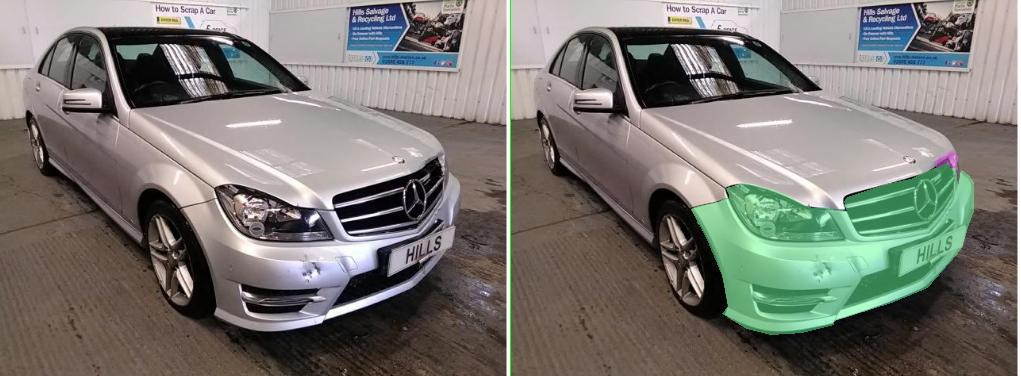Broken part: (360, 170, 925, 334), (637, 156, 893, 241), (430, 183, 673, 244)
Dent: (599, 255, 659, 283), (851, 150, 893, 168), (673, 249, 699, 272)
Scratch: (595, 253, 645, 280), (458, 263, 468, 270)
